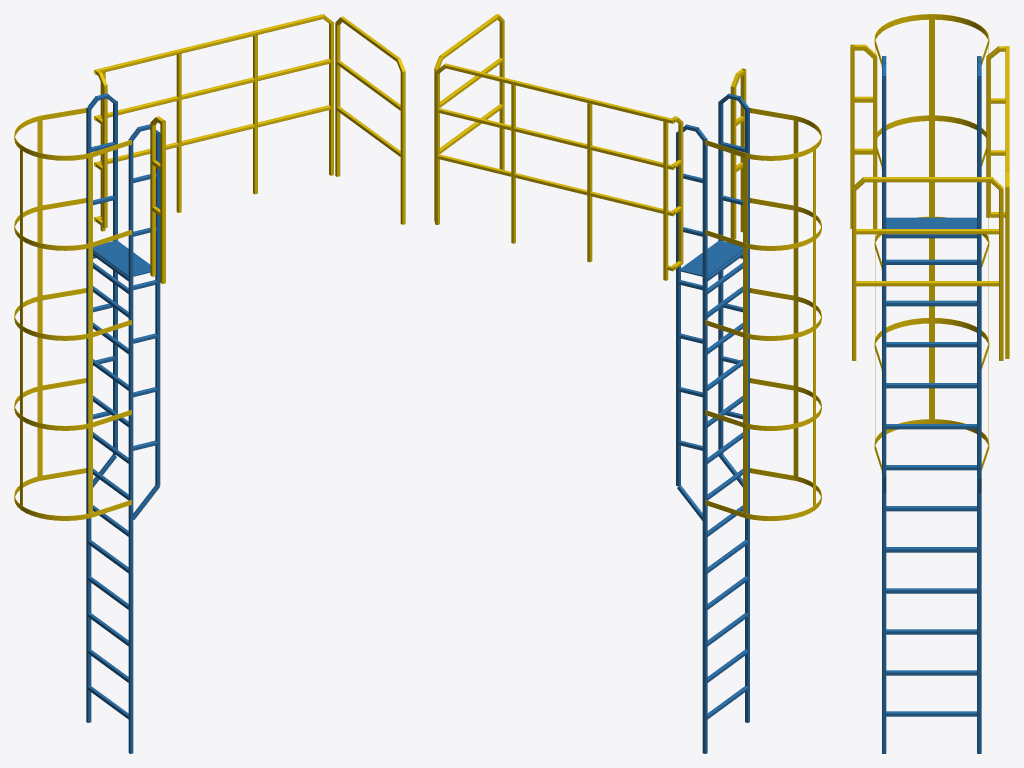
The model's file is Phase01_Stairs.fbx.
3 renders of one model, left to right at view 1: azimuth 30°, elevation 25°; view 2: azimuth 150°, elevation 25°; view 3: azimuth 270°, elevation 25°, orthographic. The views are drawn at different scales.
Parts seen in each view (by area): view 1: Профили_гнутые_замкнутые_сварные_прямоугольные_ГОСТ_30245_20 (×13), RAL 1021 (×8), Металлический лист (1):600x240:724689; view 2: Профили_гнутые_замкнутые_сварные_прямоугольные_ГОСТ_30245_20 (×12), RAL 1021 (×8), Металлический лист (1):600x240:724689; view 3: Профили_гнутые_замкнутые_сварные_прямоугольные_ГОСТ_30245_20 (×27), RAL 1021 (×5), Металлический лист (1):600x240:724689.
Part boxes in pixels (x1,y1,x2,y2): Профили_гнутые_замкнутые_сварные_прямоугольные_ГОСТ_30245_20 (×13): [86, 14, 405, 753]; RAL 1021 (×8): [14, 108, 131, 520]; Металлический лист (1):600x240:724689: [93, 240, 150, 276]; Профили_гнутые_замкнутые_сварные_прямоугольные_ГОСТ_30245_20 (×12): [435, 21, 749, 753]; RAL 1021 (×8): [704, 108, 821, 520]; Металлический лист (1):600x240:724689: [681, 240, 742, 276]; Профили_гнутые_замкнутые_сварные_прямоугольные_ГОСТ_30245_20 (×27): [850, 44, 1009, 753]; RAL 1021 (×5): [874, 14, 989, 472]; Металлический лист (1):600x240:724689: [886, 217, 976, 228].
Size of the model in its own units: 3003 by 1056 by 5244.
